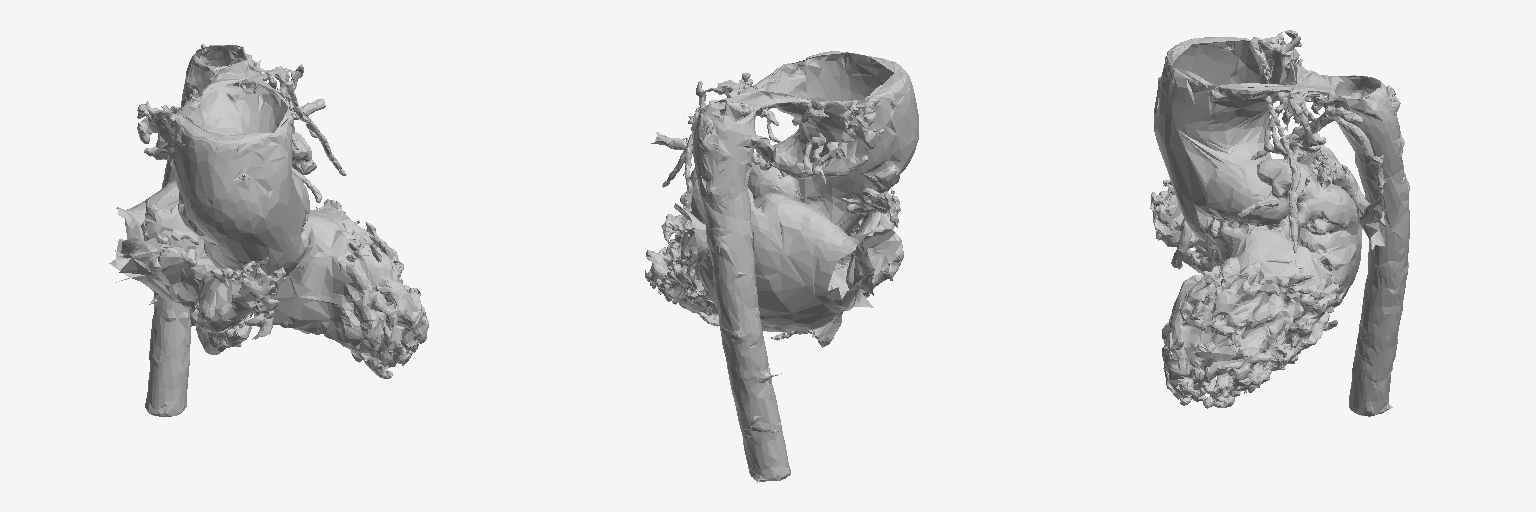
File: scan.obj
The picture shows the model from 3 angles: view 1: azimuth 30°, elevation 25°; view 2: azimuth 150°, elevation 25°; view 3: azimuth 270°, elevation 25°; orthographic projection.
Parts seen in each view (by area): view 1: Model_Model.001; view 2: Model_Model.001; view 3: Model_Model.001.
Boxes of the visible parts, x1=… form: Model_Model.001: x1=109, y1=44, x2=428, y2=416; Model_Model.001: x1=645, y1=51, x2=918, y2=482; Model_Model.001: x1=1150, y1=30, x2=1409, y2=416.
Size of the model in its own units: 3.38 by 4.26 by 2.84.